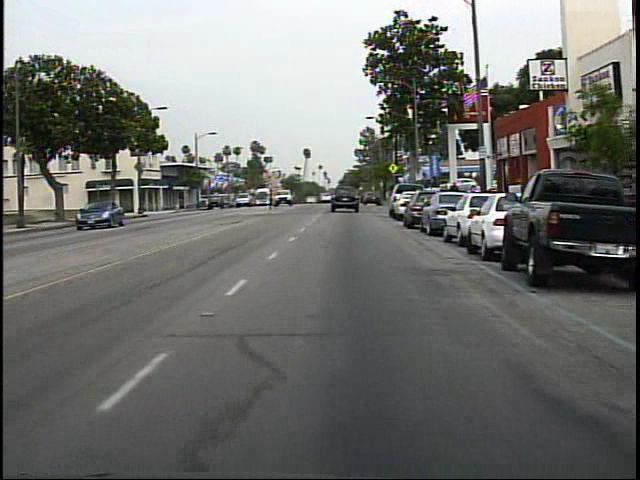person: (445, 178, 466, 219), (266, 185, 280, 214)
